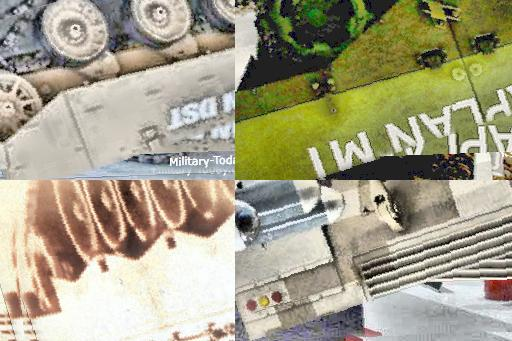tanks: (236, 1, 512, 181), (236, 181, 512, 341), (1, 1, 236, 181), (18, 181, 236, 341)
